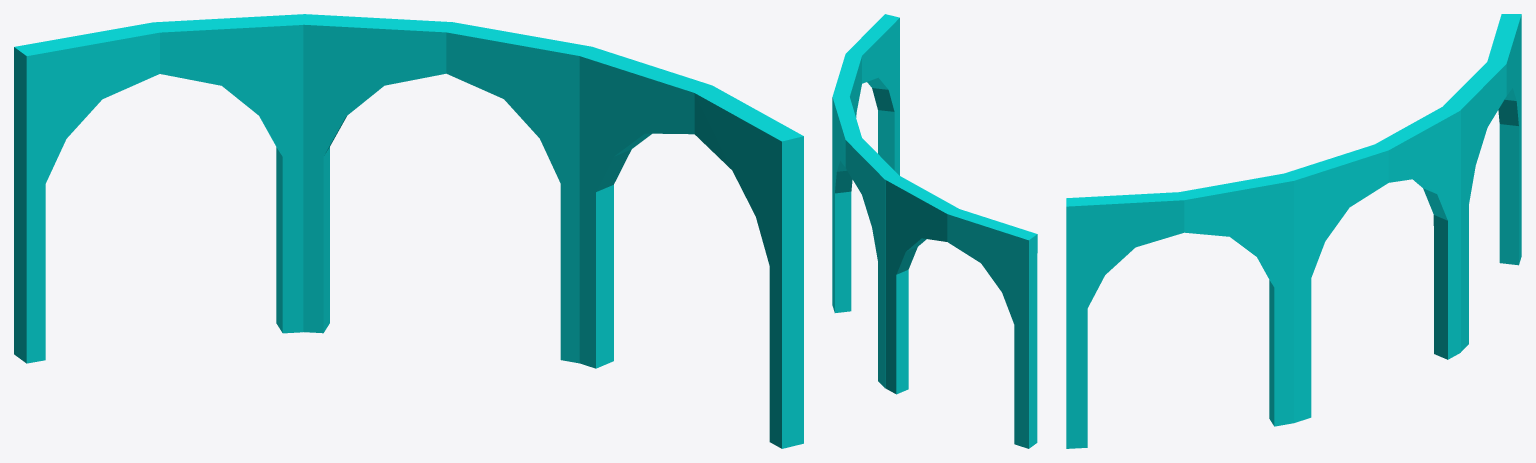
File: SM_Bld_Wall_Curved_Large_Arch_02_Collision.fbx
The picture shows the model from 3 angles, left to right: view 1: azimuth 30°, elevation 25°; view 2: azimuth 150°, elevation 25°; view 3: azimuth 270°, elevation 25°; orthographic projection. The views are drawn at different scales.
Parts seen in each view (by area): view 1: SM_Bld_Wall_Curved_Large_Arch_02_Collision; view 2: SM_Bld_Wall_Curved_Large_Arch_02_Collision; view 3: SM_Bld_Wall_Curved_Large_Arch_02_Collision.
Part boxes in pixels (x1,y1,x2,y2): SM_Bld_Wall_Curved_Large_Arch_02_Collision: (14,14,803,448); SM_Bld_Wall_Curved_Large_Arch_02_Collision: (832,14,1037,448); SM_Bld_Wall_Curved_Large_Arch_02_Collision: (1066,14,1521,448).
Bounding box in the file's own units: 511 × 300 × 511.
